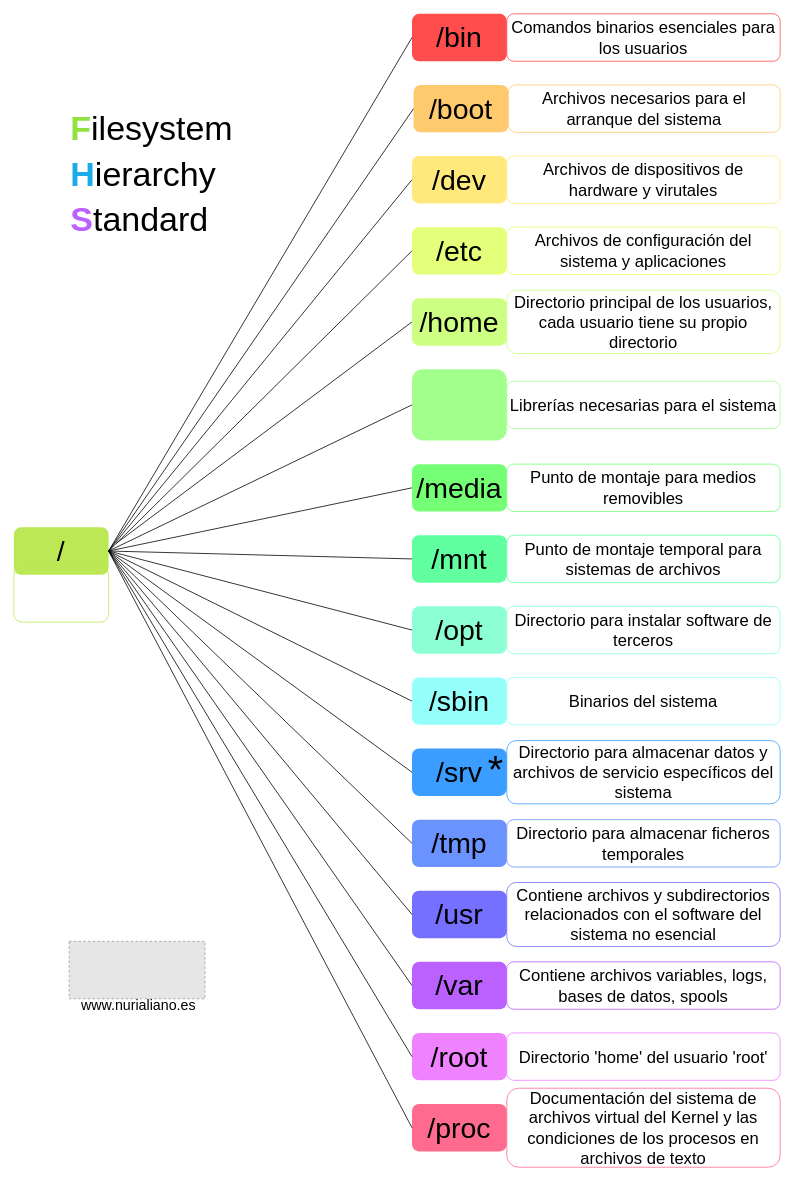
Image size: 794x1181. Some labels were removed from this diagram. Grey dashed boxes stand in for pictures. Each missing label, with the box of its shape:
/lib /lib64: (412, 369, 506, 440)
Directorio RAIZ: (13, 566, 109, 622)
